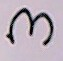sum: (3, 3, 58, 51)
